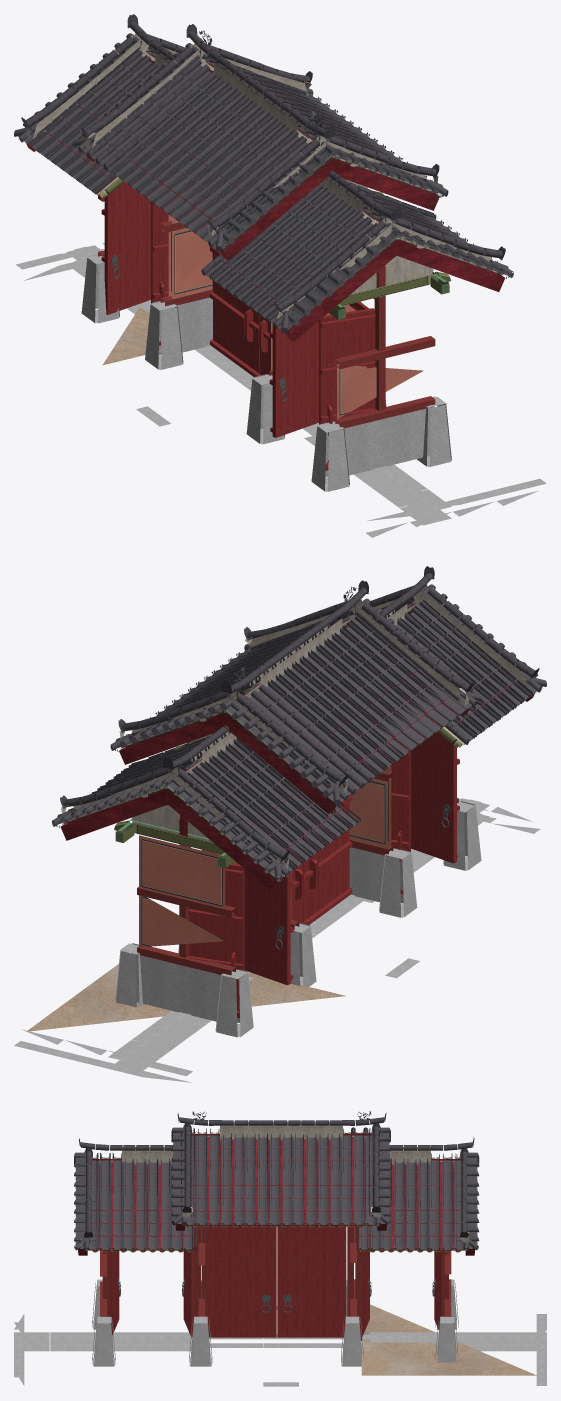
The model's file is jungyang.glb.
The picture shows the model from 3 angles, top to bottom: view 1: azimuth 30°, elevation 25°; view 2: azimuth 150°, elevation 25°; view 3: azimuth 270°, elevation 25°; orthographic projection. The views are drawn at different scales.
Parts seen in each view (by area): view 1: SM_Jungyangmun, SM_Jungyangmun_MI_R_Roof1_0.002, SM_Jungyangmun_MI_R_Roof1_0.003, SM_Jungyangmun_MI_R_Roof1_0.001, SM_Jungyangmun_MI_R_Roof1_0.005, SM_Jungyangmun_MI_R_Roof1_0.004, SM_Jungyangmun_MI_R_Roof1_0.006; view 2: SM_Jungyangmun, SM_Jungyangmun_MI_R_Roof1_0.001, SM_Jungyangmun_MI_R_Roof1_0.003, SM_Jungyangmun_MI_R_Roof1_0.006, SM_Jungyangmun_MI_R_Roof1_0.002, SM_Jungyangmun_MI_R_Roof1_0.005, SM_Jungyangmun_MI_R_Roof1_0.004; view 3: SM_Jungyangmun, SM_Jungyangmun_MI_R_Roof1_0.004, SM_Jungyangmun_MI_R_Roof1_0.003, SM_Jungyangmun_MI_R_Roof1_0.005, SM_Jungyangmun_MI_R_Roof1_0.001, SM_Jungyangmun_MI_R_Roof1_0.006, SM_Jungyangmun_MI_R_Roof1_0.002.
Part boxes in pixels (bbox=[...]): SM_Jungyangmun: bbox=[14, 33, 546, 537]; SM_Jungyangmun_MI_R_Roof1_0.002: bbox=[205, 171, 505, 333]; SM_Jungyangmun_MI_R_Roof1_0.003: bbox=[115, 94, 513, 300]; SM_Jungyangmun_MI_R_Roof1_0.001: bbox=[80, 24, 439, 277]; SM_Jungyangmun_MI_R_Roof1_0.005: bbox=[21, 14, 448, 252]; SM_Jungyangmun_MI_R_Roof1_0.004: bbox=[179, 56, 432, 242]; SM_Jungyangmun_MI_R_Roof1_0.006: bbox=[24, 46, 169, 188]; SM_Jungyangmun: bbox=[14, 585, 540, 1082]; SM_Jungyangmun_MI_R_Roof1_0.001: bbox=[118, 580, 473, 796]; SM_Jungyangmun_MI_R_Roof1_0.003: bbox=[291, 584, 504, 774]; SM_Jungyangmun_MI_R_Roof1_0.006: bbox=[60, 737, 352, 872]; SM_Jungyangmun_MI_R_Roof1_0.002: bbox=[369, 566, 546, 739]; SM_Jungyangmun_MI_R_Roof1_0.005: bbox=[63, 598, 482, 863]; SM_Jungyangmun_MI_R_Roof1_0.004: bbox=[110, 611, 471, 751]; SM_Jungyangmun: bbox=[14, 1122, 546, 1386]; SM_Jungyangmun_MI_R_Roof1_0.004: bbox=[187, 1128, 390, 1225]; SM_Jungyangmun_MI_R_Roof1_0.003: bbox=[74, 1128, 219, 1250]; SM_Jungyangmun_MI_R_Roof1_0.005: bbox=[171, 1127, 474, 1232]; SM_Jungyangmun_MI_R_Roof1_0.001: bbox=[177, 1111, 386, 1216]; SM_Jungyangmun_MI_R_Roof1_0.006: bbox=[418, 1153, 468, 1249]; SM_Jungyangmun_MI_R_Roof1_0.002: bbox=[74, 1138, 196, 1250].
Size of the model in its own units: 6.18 by 8.01 by 16.44.
Materials: 13 (12 with a texture image).
